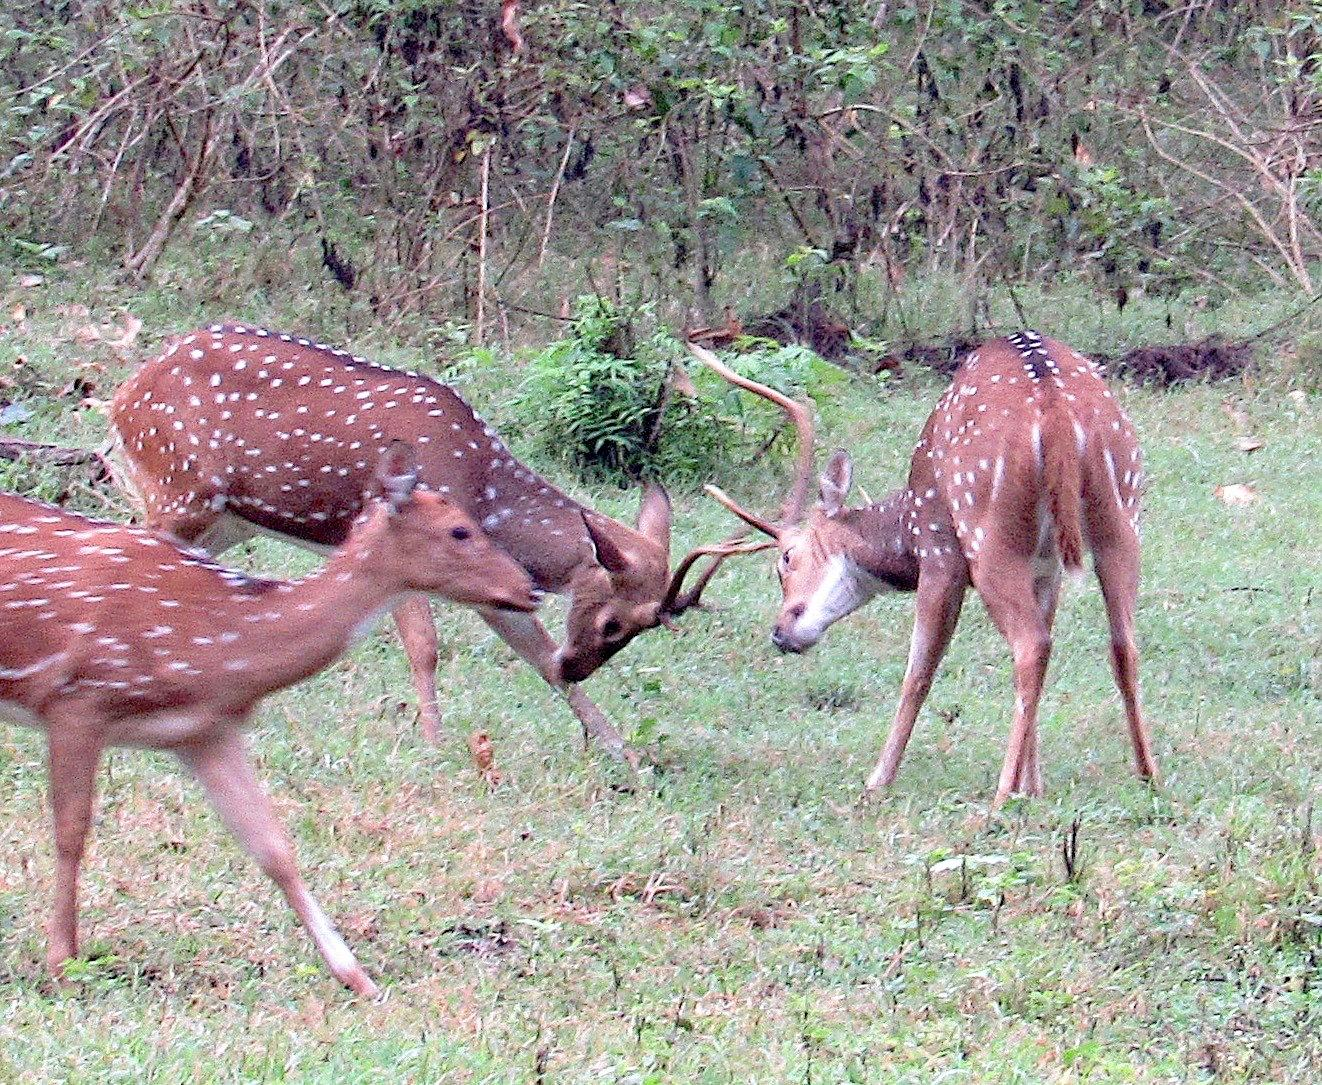Deer: (0, 443, 537, 995), (107, 322, 744, 767), (691, 332, 1156, 804)
